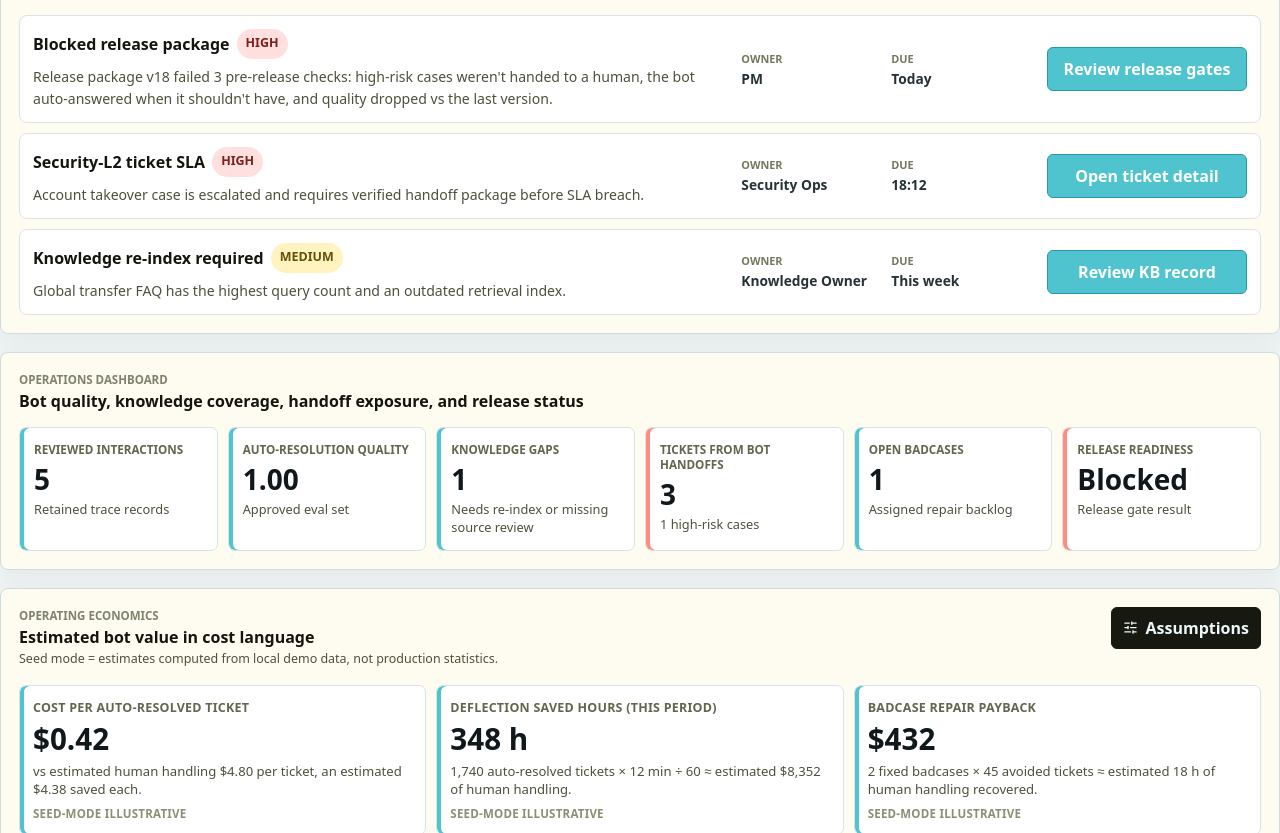
OverviewDashboard operating economics › recalculates estimates immediately when an assumption changes
The image size is (1280, 833).
Click the button with test id "econ-assumptions-toggle".
click(1186, 628)  # box [1110, 607, 1261, 649]
(page scrolled)
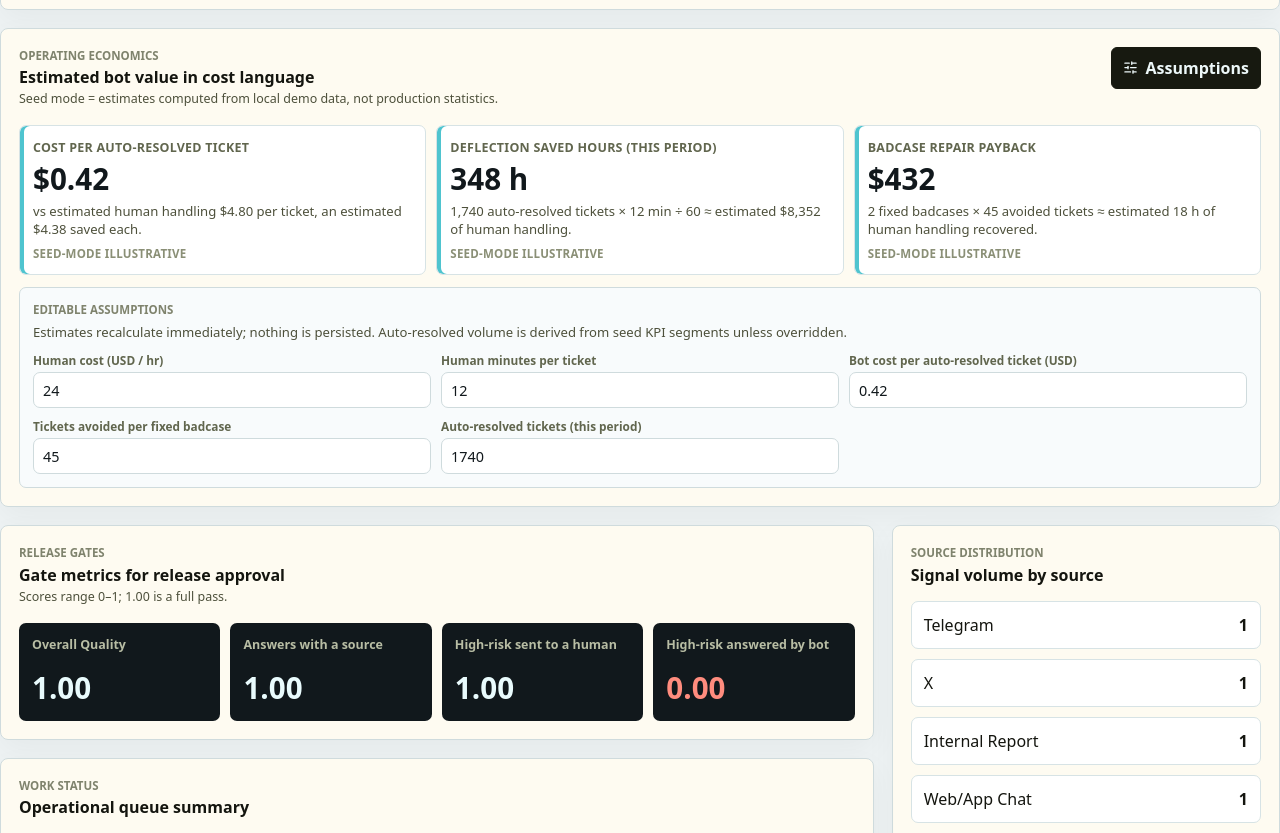
Replace the text in the number field labelled "Human minutes per ticket" with "24" at (640, 390), box [441, 372, 839, 408]
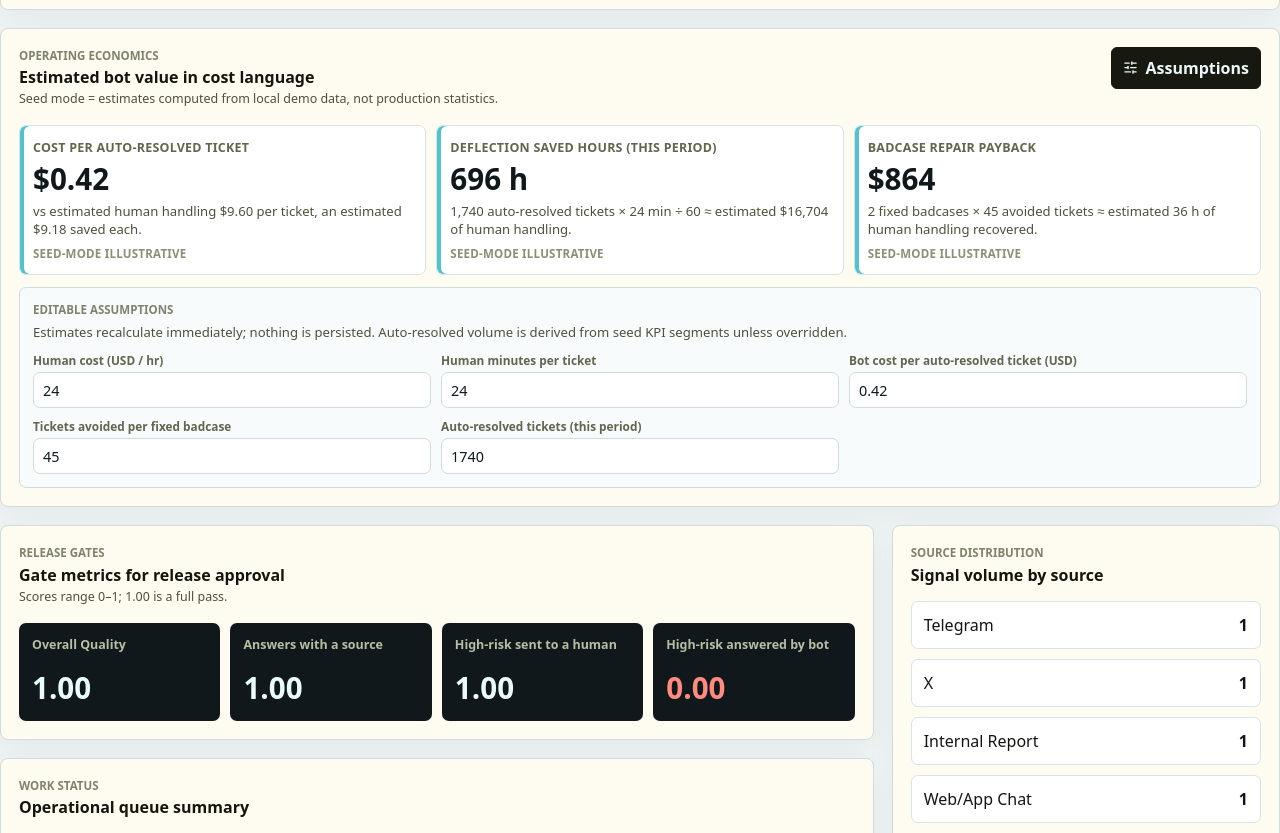
Check: the text with test id "econ-deflection-value" reads "696 h", box [450, 158, 528, 199]
Check: the element with test id "econ-card-cost" shows "$9.60", box [33, 202, 402, 238]
Replace the text in the number field labelled "Auto-resolved tickets (this period)" with "100" at (640, 456), box [441, 438, 839, 474]
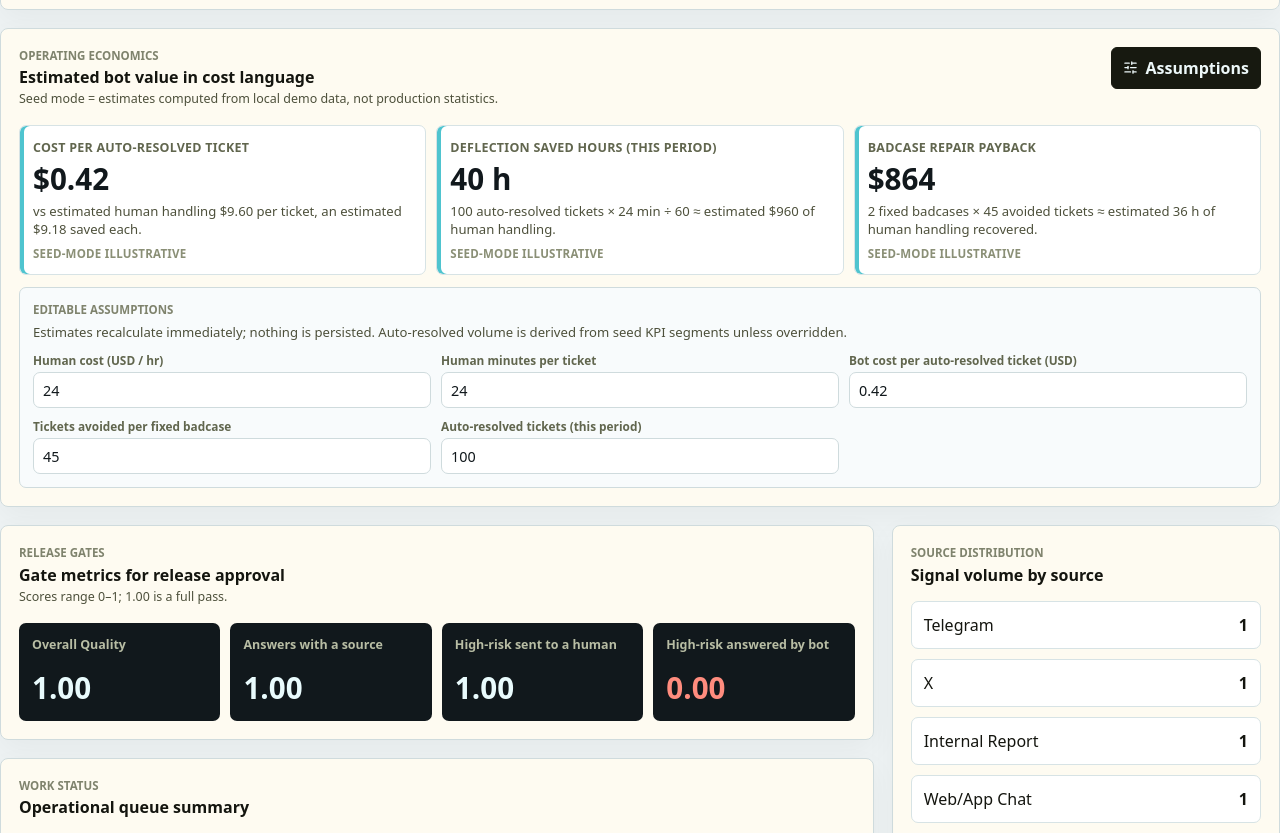
Check: the text with test id "econ-deflection-value" reads "40 h", box [450, 158, 511, 199]
